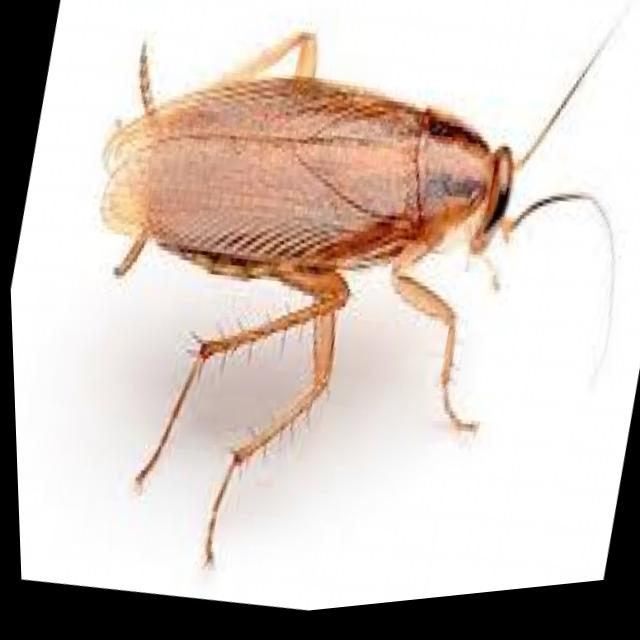Cockroach: (6, 0, 640, 640)
